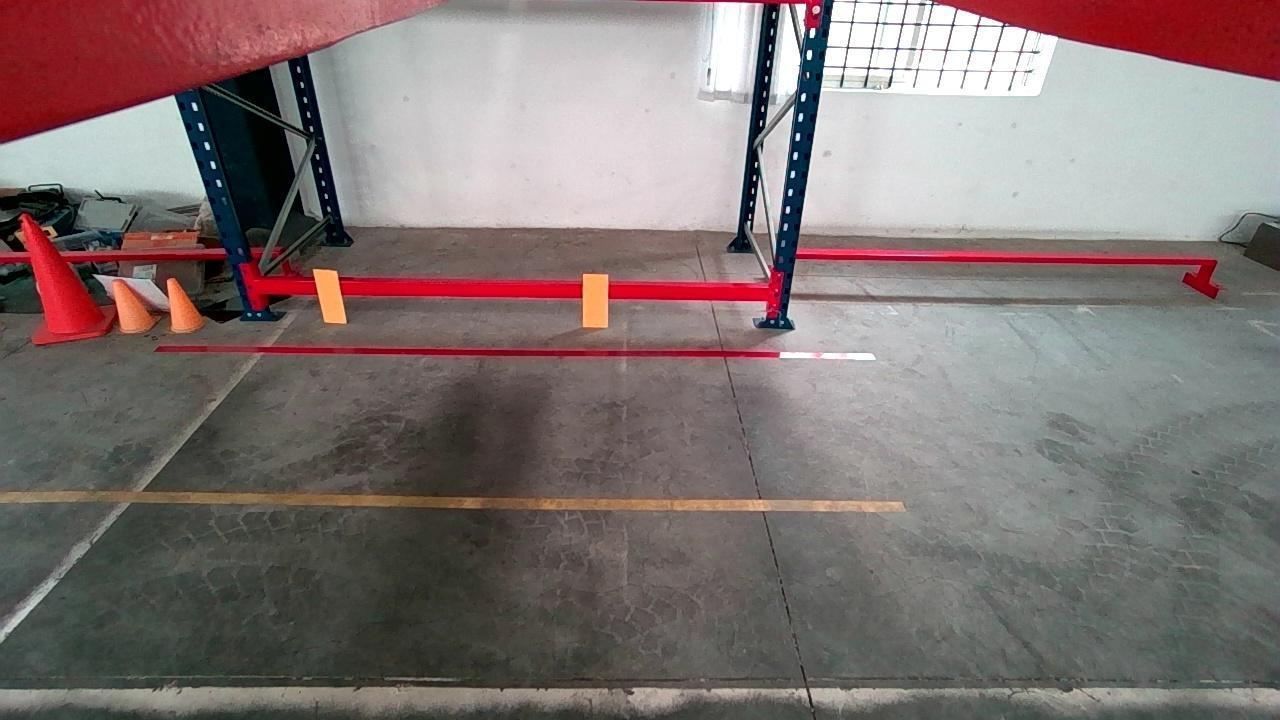h_rack: (262, 282, 773, 299)
orange_strip: (311, 267, 344, 321), (579, 273, 610, 325)
red_line: (149, 340, 876, 362)
yellow_line: (2, 488, 911, 510)
